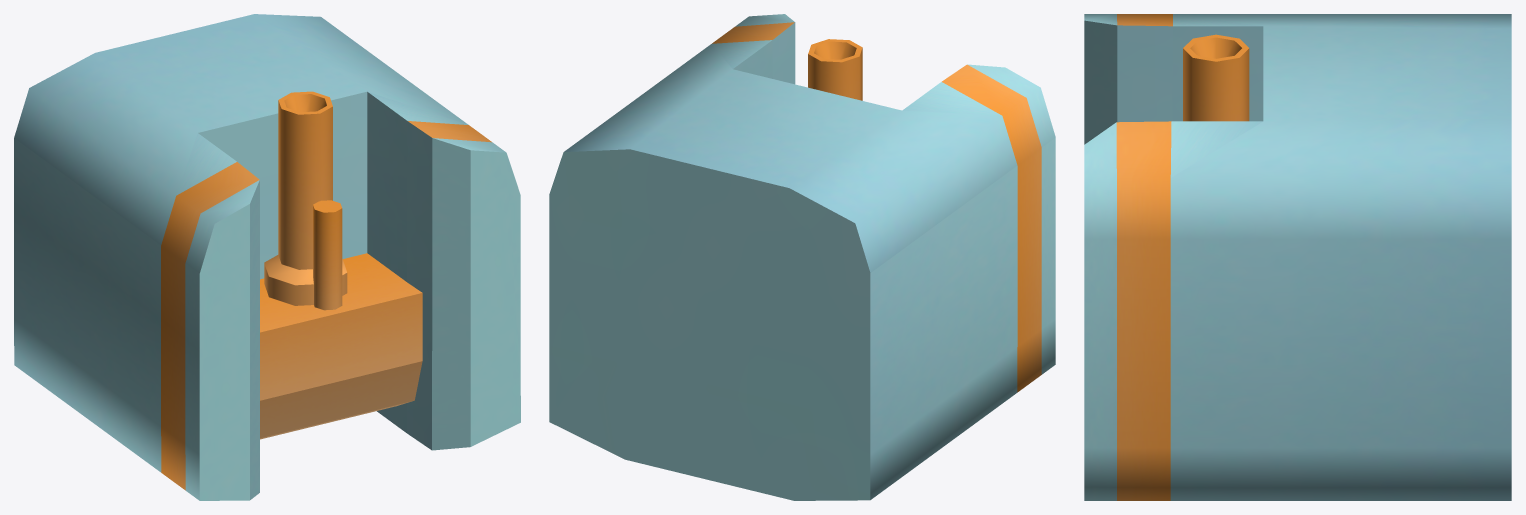
The model's file is Gun 1.fbx.
3 renders of one model, left to right at view 1: azimuth 30°, elevation 25°; view 2: azimuth 150°, elevation 25°; view 3: azimuth 270°, elevation 25°, orthographic. The views are drawn at different scales.
Parts seen in each view (by area): view 1: Gun 1; view 2: Gun 1; view 3: Gun 1.
Part boxes in pixels (bbox=[...]): Gun 1: bbox=[14, 14, 520, 500]; Gun 1: bbox=[549, 14, 1055, 500]; Gun 1: bbox=[1084, 14, 1511, 500].
Bounding box in the file's own units: 100 × 100 × 100.
